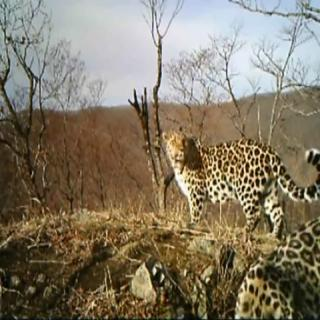Leopard: (154, 116, 320, 242)
